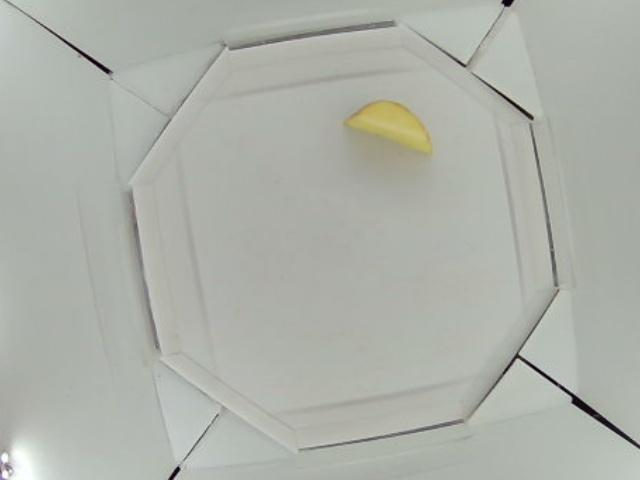Potato: (345, 100, 431, 153)
